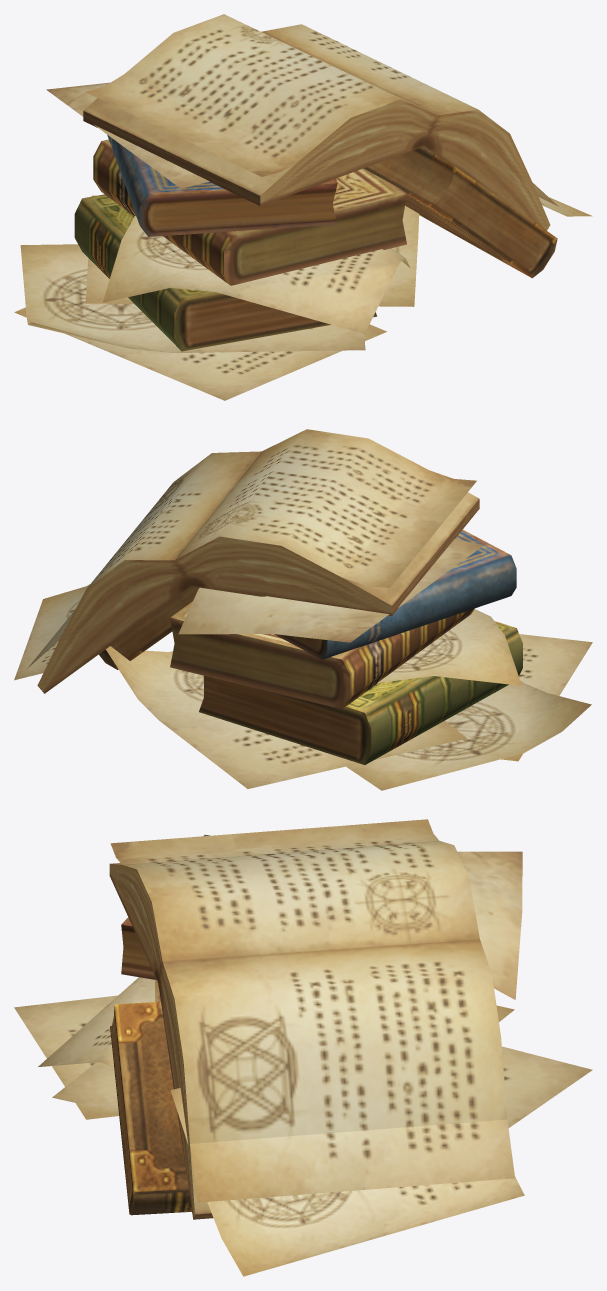
Rendered from Books_Preset_03.FBX.
3 renders of one model, top to bottom at view 1: azimuth 30°, elevation 25°; view 2: azimuth 150°, elevation 25°; view 3: azimuth 270°, elevation 25°, orthographic. The views are drawn at different scales.
Visible parts, largest first — view 1: Books_Preset_03; view 2: Books_Preset_03; view 3: Books_Preset_03.
Part boxes in pixels (x1=…): Books_Preset_03: x1=14, y1=14, x2=592, y2=400; Books_Preset_03: x1=14, y1=429, x2=592, y2=790; Books_Preset_03: x1=14, y1=819, x2=592, y2=1276.
Bounding box in the file's own units: 66.33 × 49.71 × 22.88.
